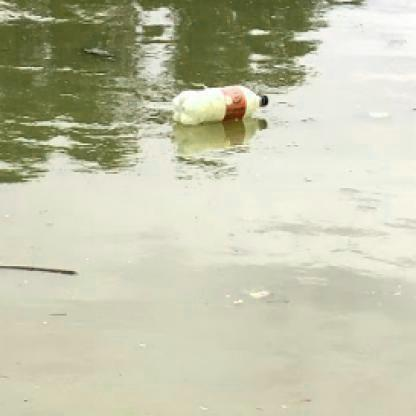Plastic: (172, 83, 271, 125)
